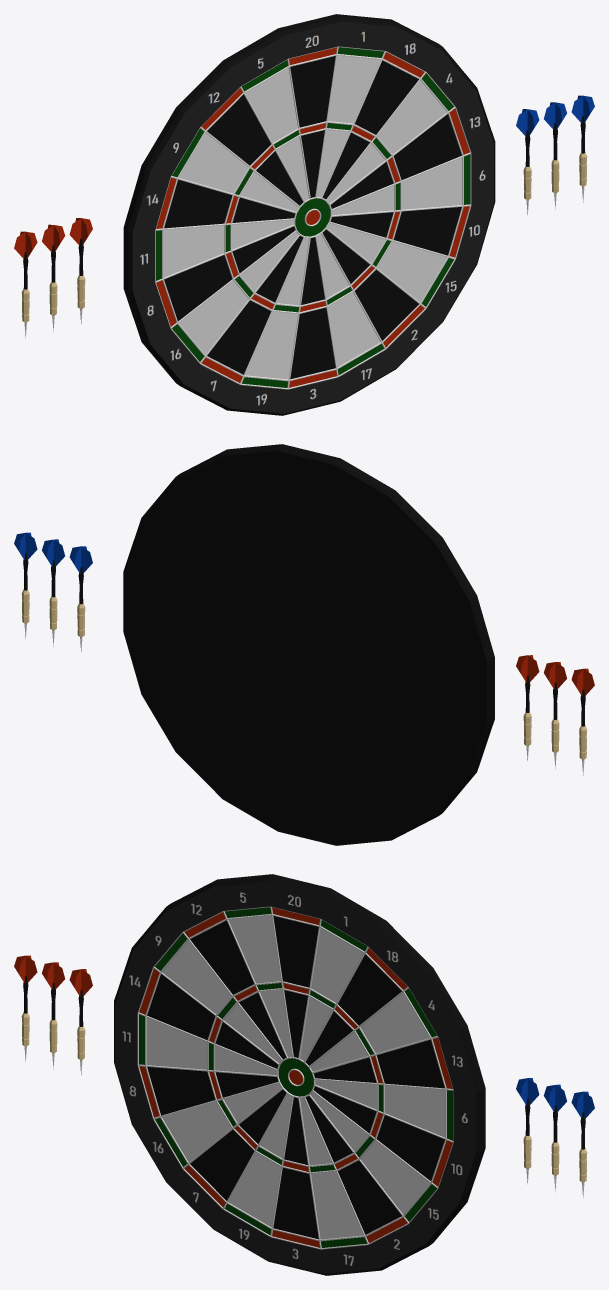
Rendered from dartboard.glb.
3 views of the same model, one above another, from view 1: azimuth 30°, elevation 25°; view 2: azimuth 150°, elevation 25°; view 3: azimuth 330°, elevation 25° (orthographic).
Parts seen in each view (by area): view 1: Dart Board_0, Darts_Red_1, Darts_Blue_2; view 2: Dart Board_0, Darts_Blue_2, Darts_Red_1; view 3: Dart Board_0, Darts_Red_1, Darts_Blue_2.
Part boxes in pixels (<box>): Dart Board_0: <box>123,14,495,415</box>; Darts_Red_1: <box>14,218,92,338</box>; Darts_Blue_2: <box>516,95,594,215</box>; Dart Board_0: <box>123,444,494,845</box>; Darts_Blue_2: <box>14,532,92,652</box>; Darts_Red_1: <box>516,655,594,775</box>; Dart Board_0: <box>114,874,485,1275</box>; Darts_Red_1: <box>14,955,92,1075</box>; Darts_Blue_2: <box>516,1078,594,1198</box>.
Size of the model in its own units: 3.12 by 1.98 by 0.1455.
Materials: 8 (1 with a texture image).
